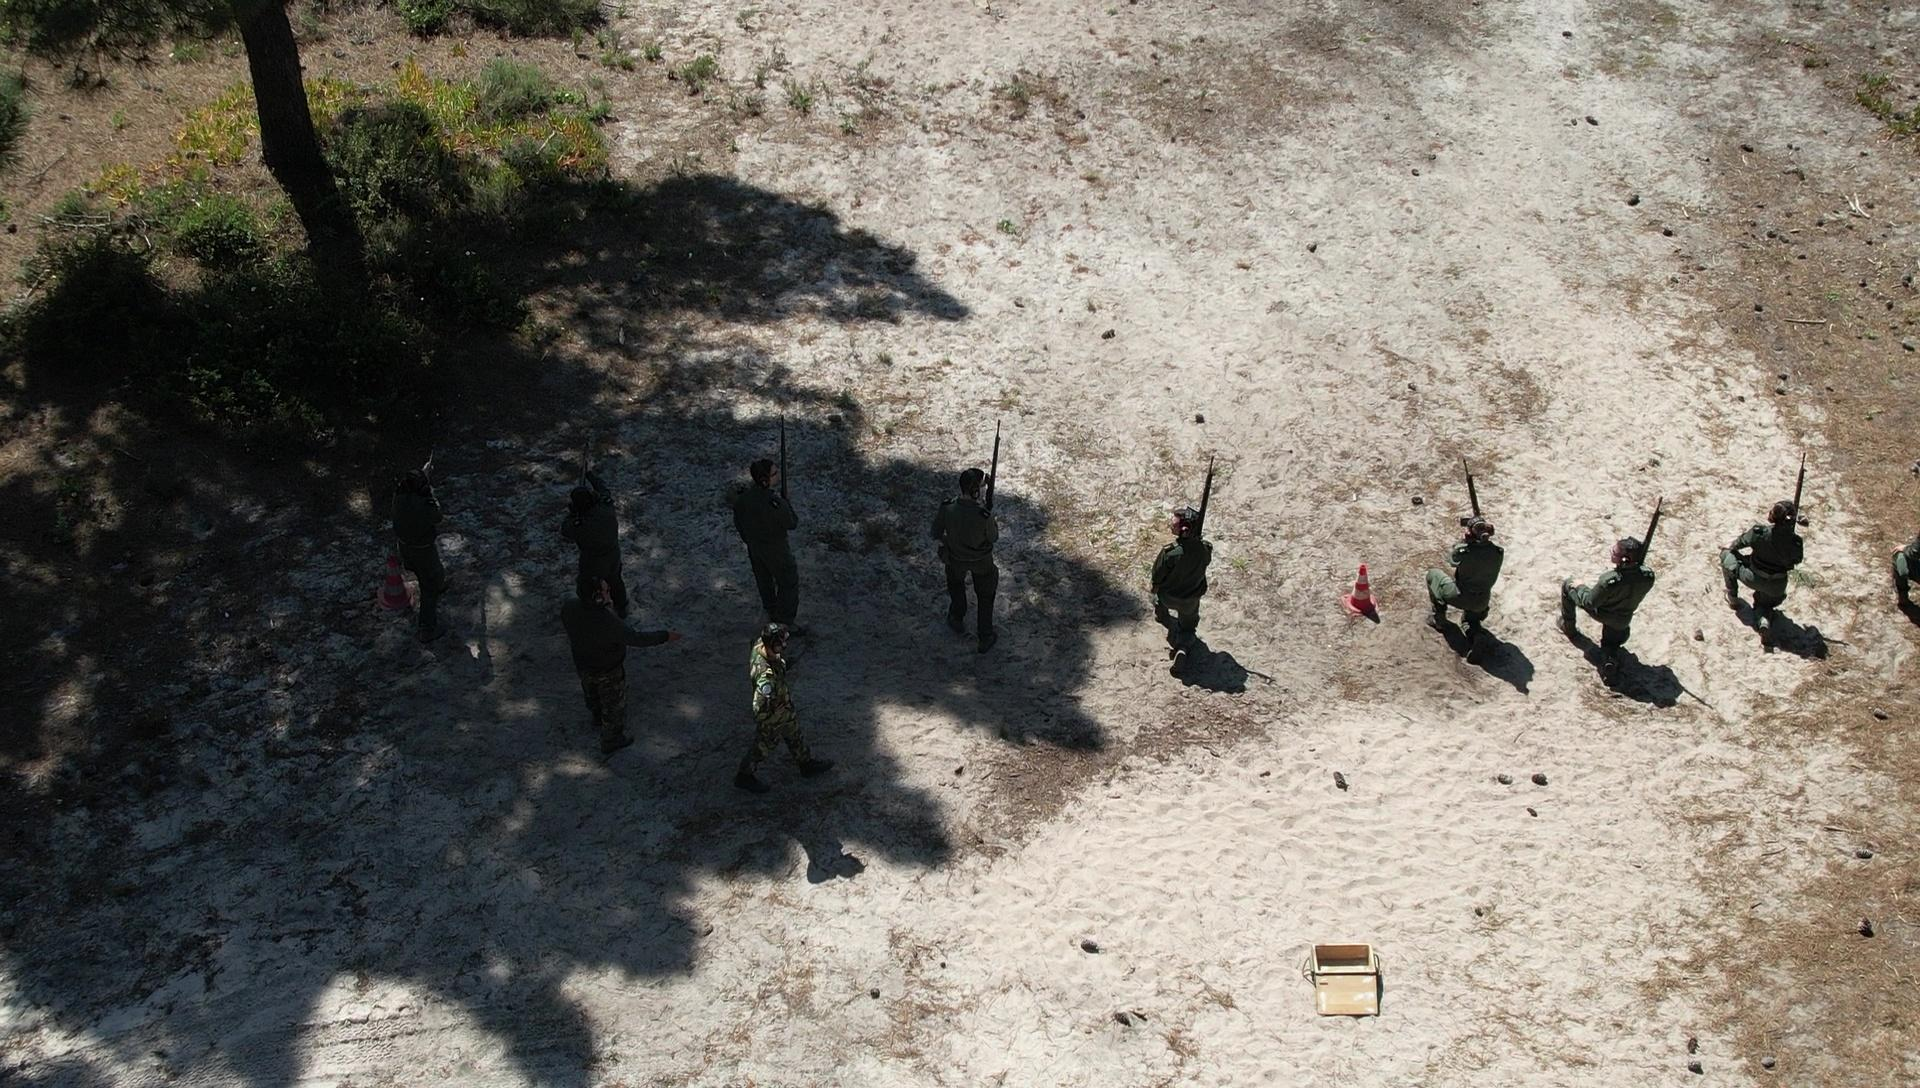Soldier: (1563, 516, 1672, 721), (930, 444, 1021, 669), (708, 617, 812, 812), (1422, 497, 1522, 696), (368, 398, 463, 607), (1135, 481, 1232, 684), (736, 433, 811, 648), (1724, 495, 1815, 663), (556, 558, 644, 713), (550, 431, 638, 559)
